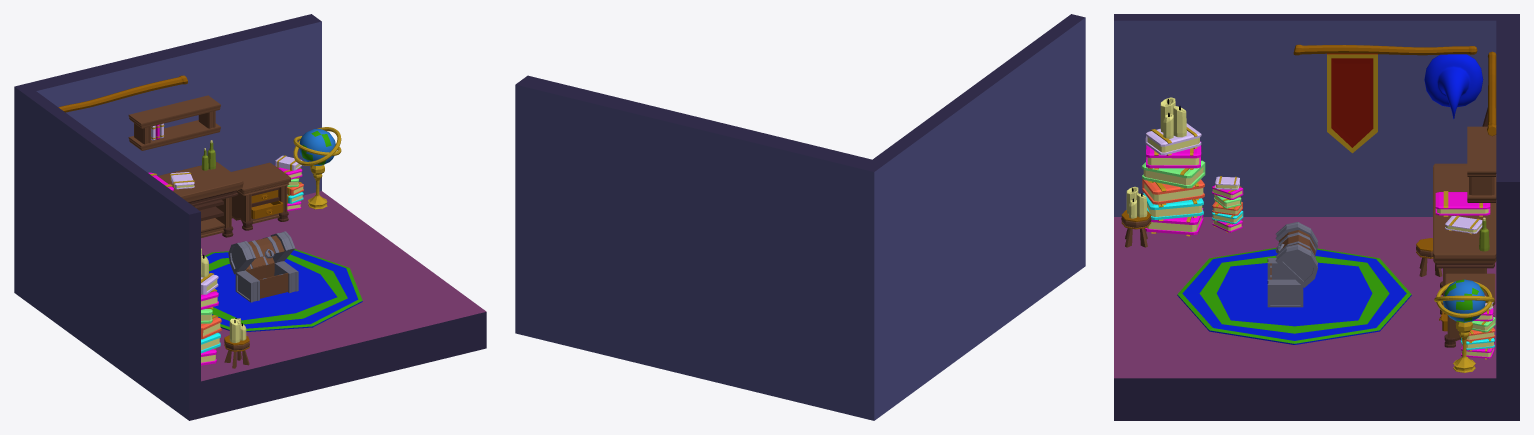
File: WinRoom.fbx
3 views of the same model, side by side, from view 1: azimuth 30°, elevation 25°; view 2: azimuth 150°, elevation 25°; view 3: azimuth 270°, elevation 25° (orthographic). The views are drawn at different scales.
Visible parts, largest first — view 1: Cube, Cube.021, Cube.007, Cube.001, Cube.002, Cube.012, Cube.010, Cube.005, Cube.039, Cube.008, Cube.015, Cube.009 (+1 smaller); view 2: Cube; view 3: Cube, Cube.021, Cube.038, Cube.001, Cube.011, Cube.007, Cube.010, Cube.006, Cube.044, Cube.012, Cube.039, Cube.008 (+15 smaller).
Boxes of the visible parts, <box> form: Cube: <box>14,14,486,420</box>; Cube.021: <box>204,249,362,331</box>; Cube.007: <box>128,95,220,150</box>; Cube.001: <box>158,162,243,237</box>; Cube.002: <box>231,162,290,230</box>; Cube.012: <box>235,261,298,302</box>; Cube.010: <box>228,231,295,274</box>; Cube.005: <box>58,75,187,112</box>; Cube.039: <box>275,155,303,211</box>; Cube.008: <box>299,129,335,165</box>; Cube.015: <box>224,335,249,368</box>; Cube.009: <box>308,165,327,209</box>; Cube: <box>515,14,1085,420</box>; Cube: <box>1114,14,1519,420</box>; Cube.021: <box>1177,247,1411,344</box>; Cube.038: <box>1327,53,1377,153</box>; Cube.001: <box>1433,163,1496,314</box>; Cube.011: <box>1424,54,1483,118</box>; Cube.007: <box>1467,126,1496,202</box>; Cube.010: <box>1275,222,1317,287</box>; Cube.006: <box>1293,44,1477,55</box>; Cube.044: <box>1212,176,1243,232</box>; Cube.012: <box>1267,258,1303,307</box>; Cube.039: <box>1460,296,1495,359</box>; Cube.008: <box>1443,279,1485,322</box>.
Size of the model in its own units: 598 by 393 by 605.
